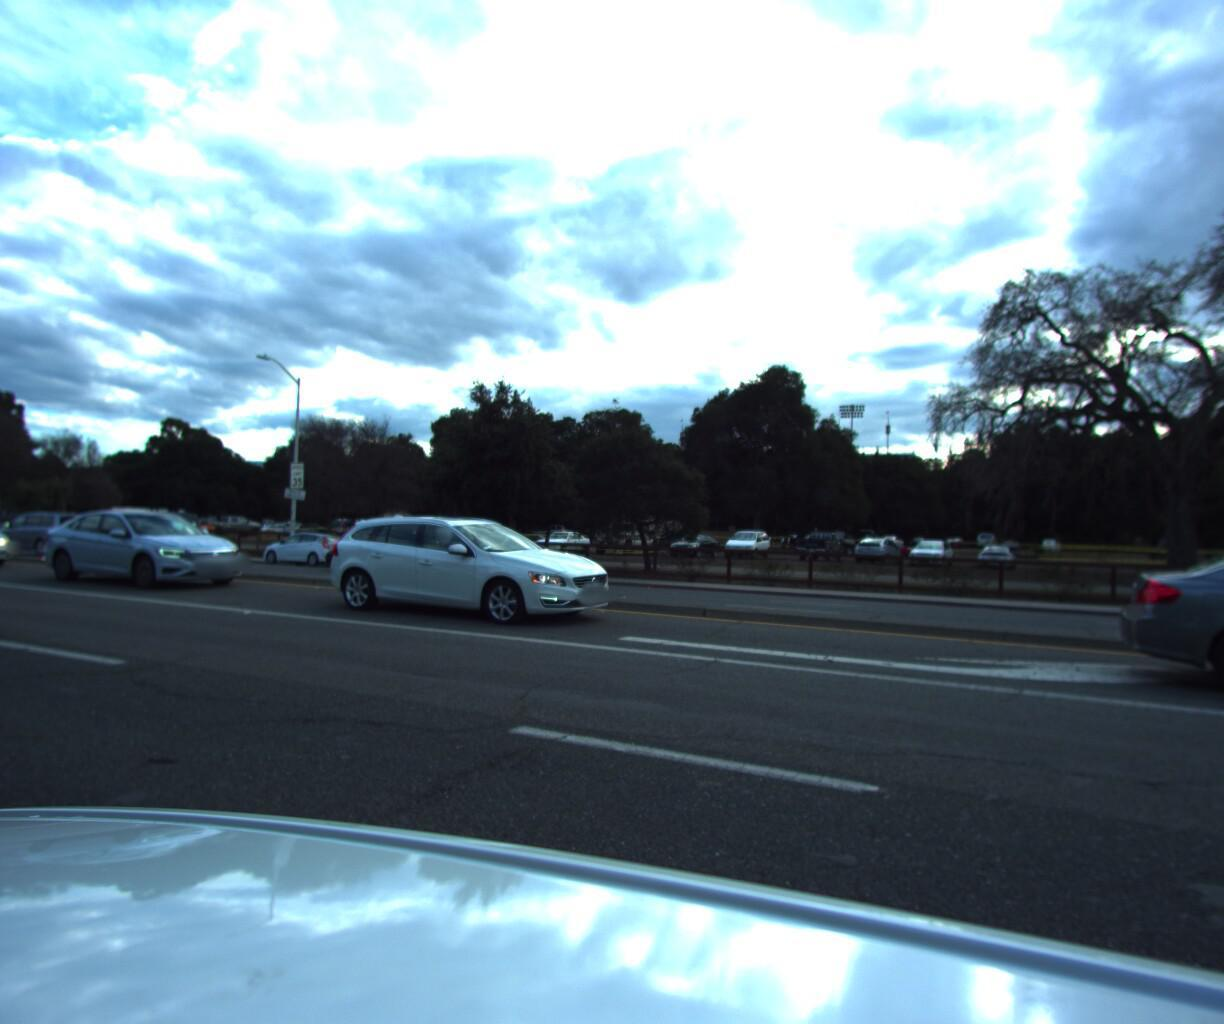car: (316, 513, 637, 633), (1109, 524, 1224, 757), (29, 499, 257, 584), (314, 523, 455, 574), (99, 504, 208, 556), (0, 447, 26, 659), (0, 504, 98, 553), (255, 525, 357, 567), (0, 492, 25, 565)
